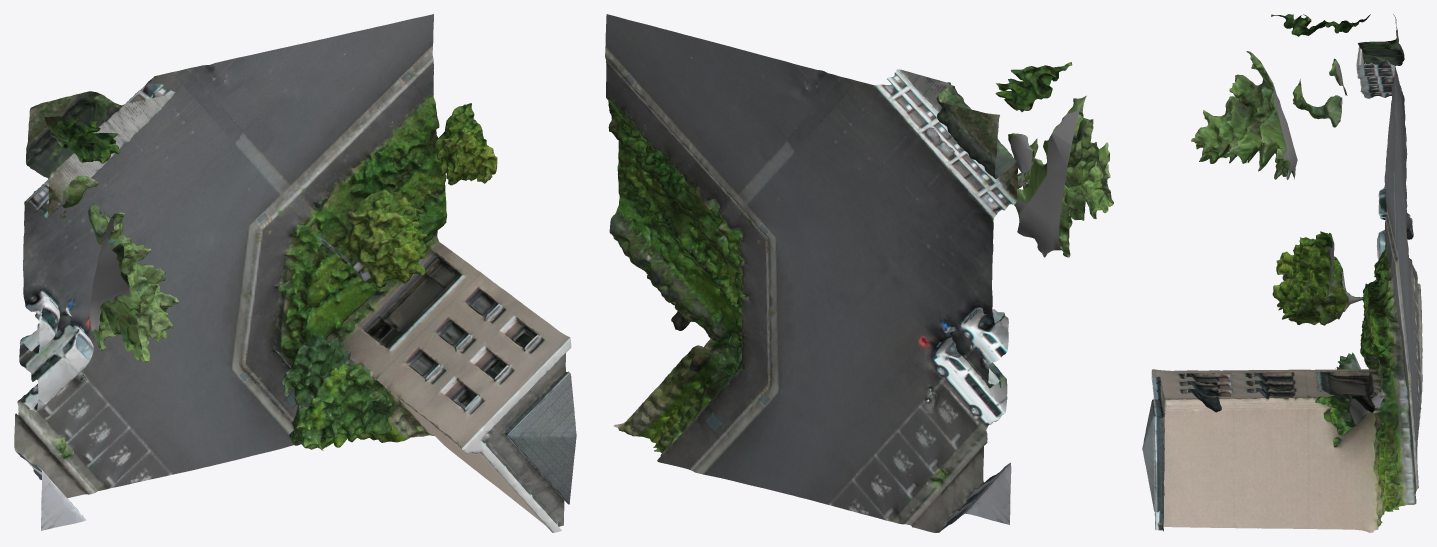
The model's file is Tile_+004_+011.fbx.
3 views of the same model, side by side, from view 1: azimuth 30°, elevation 25°; view 2: azimuth 150°, elevation 25°; view 3: azimuth 270°, elevation 25° (orthographic). The views are drawn at different scales.
Visible parts, largest first — view 1: DefaultName; view 2: DefaultName; view 3: DefaultName.
Part boxes in pixels (<box>): DefaultName: <box>14,14,576,532</box>; DefaultName: <box>605,14,1113,532</box>; DefaultName: <box>1142,14,1422,532</box>.
Bounding box in the file's own units: 22.54 × 22.54 × 16.18.
